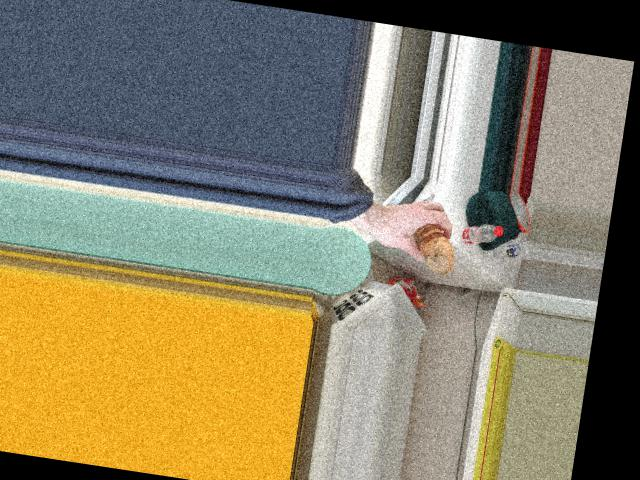sweet_potato: (410, 225, 460, 274)
